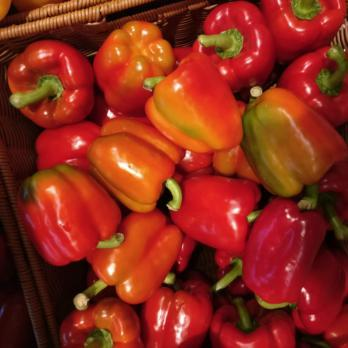Capsicum: (2, 36, 348, 261), (54, 264, 348, 348), (202, 0, 348, 93)
